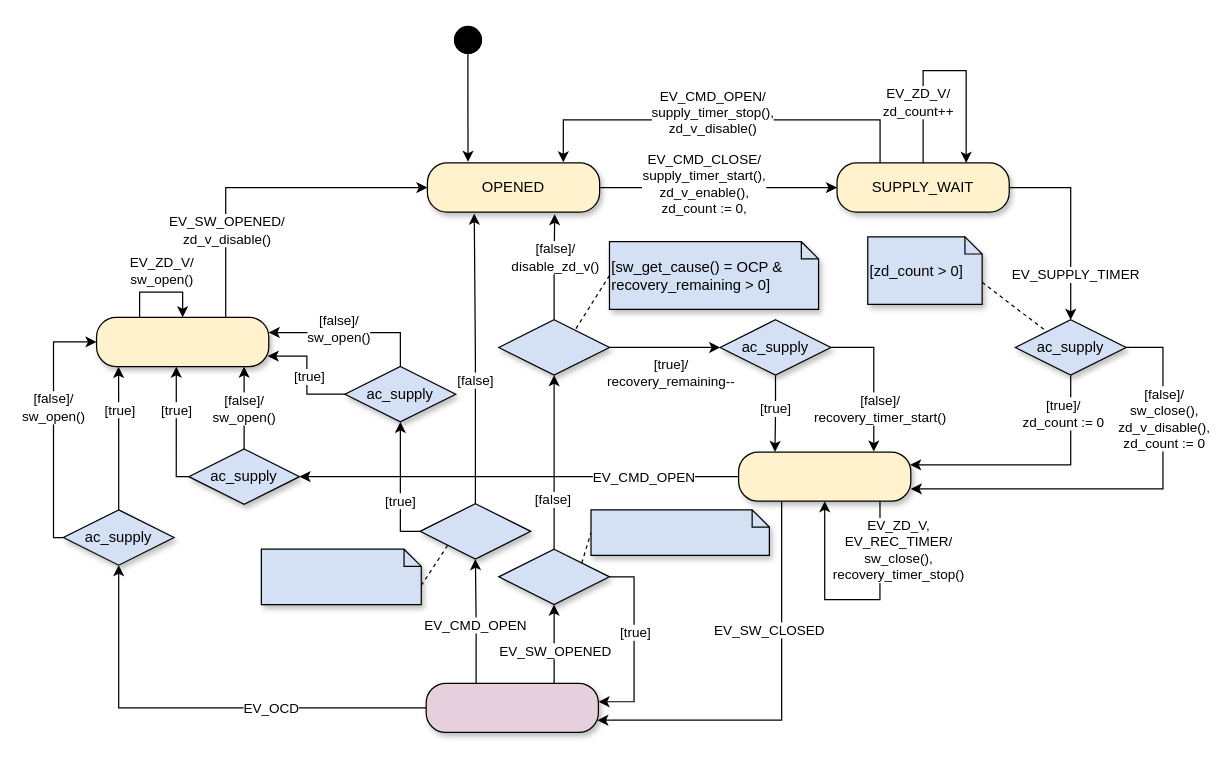
Image size: 1230x763. Some labels were removed from this diagram. The centre of each missing label's shape, as x and y in pixels:
"[sw_get_cause() = EXT]" belongs at pixel 681 534.
"[sw_is_closed() = true]" belongs at pixel 342 578.
"CLOSE_WAIT" belongs at pixel 825 478.
"CLOSED" belongs at pixel 513 709.
"OPEN_WAIT" belongs at pixel 183 343.
